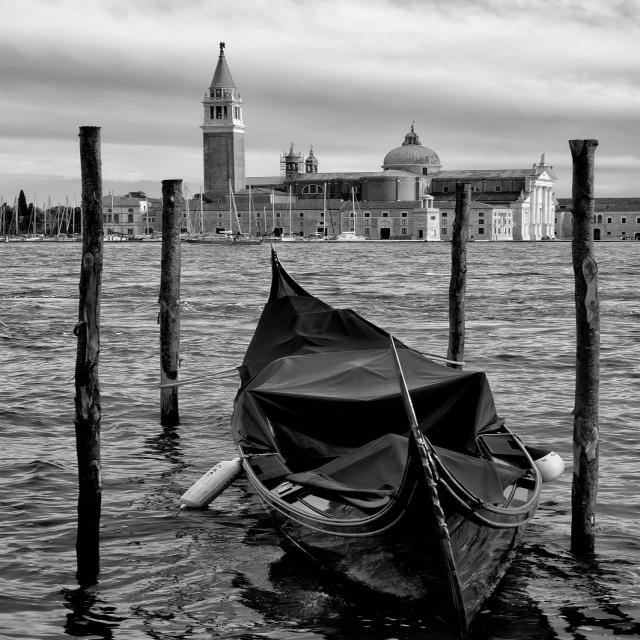boat: (178, 229, 577, 637)
